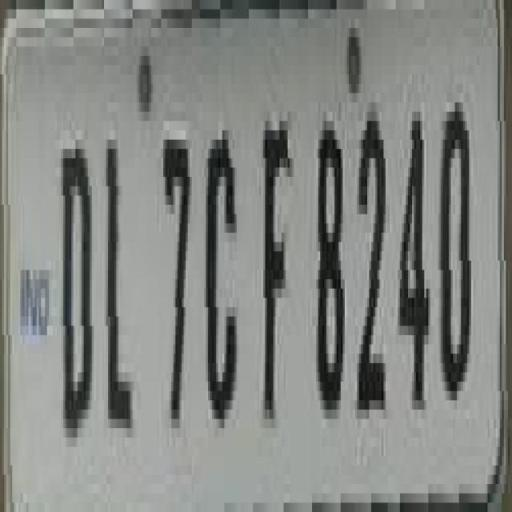number plate: (0, 9, 490, 512)
